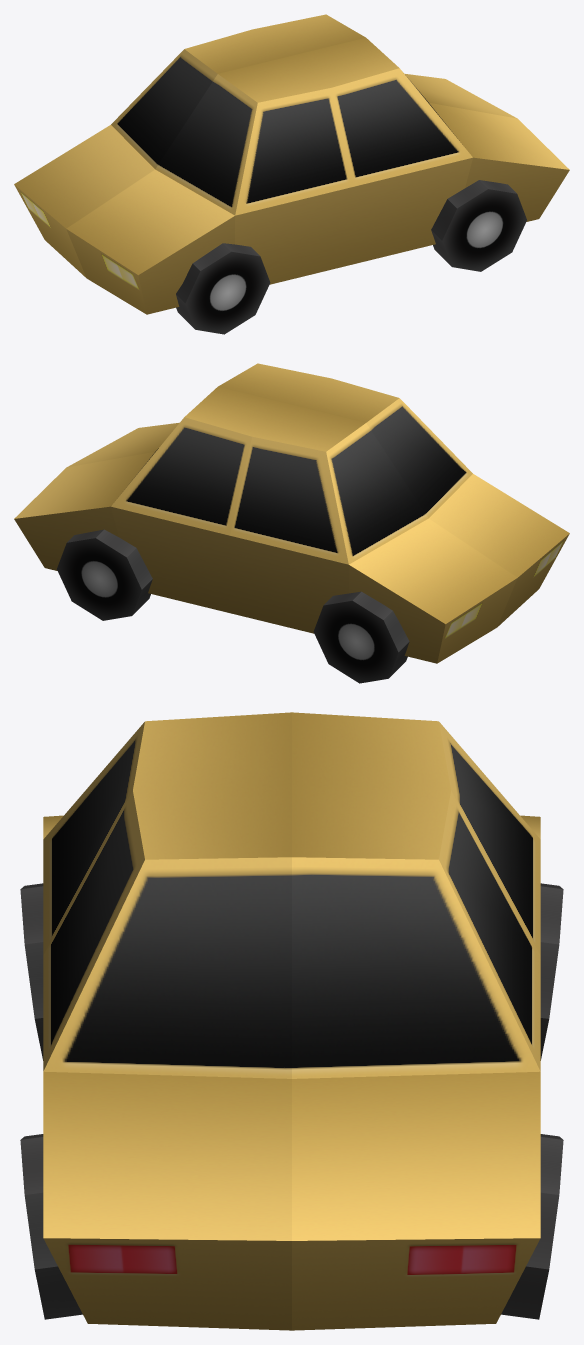
The model's file is car1.glb.
3 renders of one model, top to bottom at view 1: azimuth 30°, elevation 25°; view 2: azimuth 150°, elevation 25°; view 3: azimuth 270°, elevation 25°, orthographic. The views are drawn at different scales.
Visible parts, largest first — view 1: Car0; view 2: Car0; view 3: Car0.
Part boxes in pixels (<box>): Car0: <box>14,14,569,334</box>; Car0: <box>14,363,569,683</box>; Car0: <box>20,712,563,1330</box>.
Bounding box in the file's own units: 4.19 × 1.8 × 2.18.
Materials: 1 (1 with a texture image).
